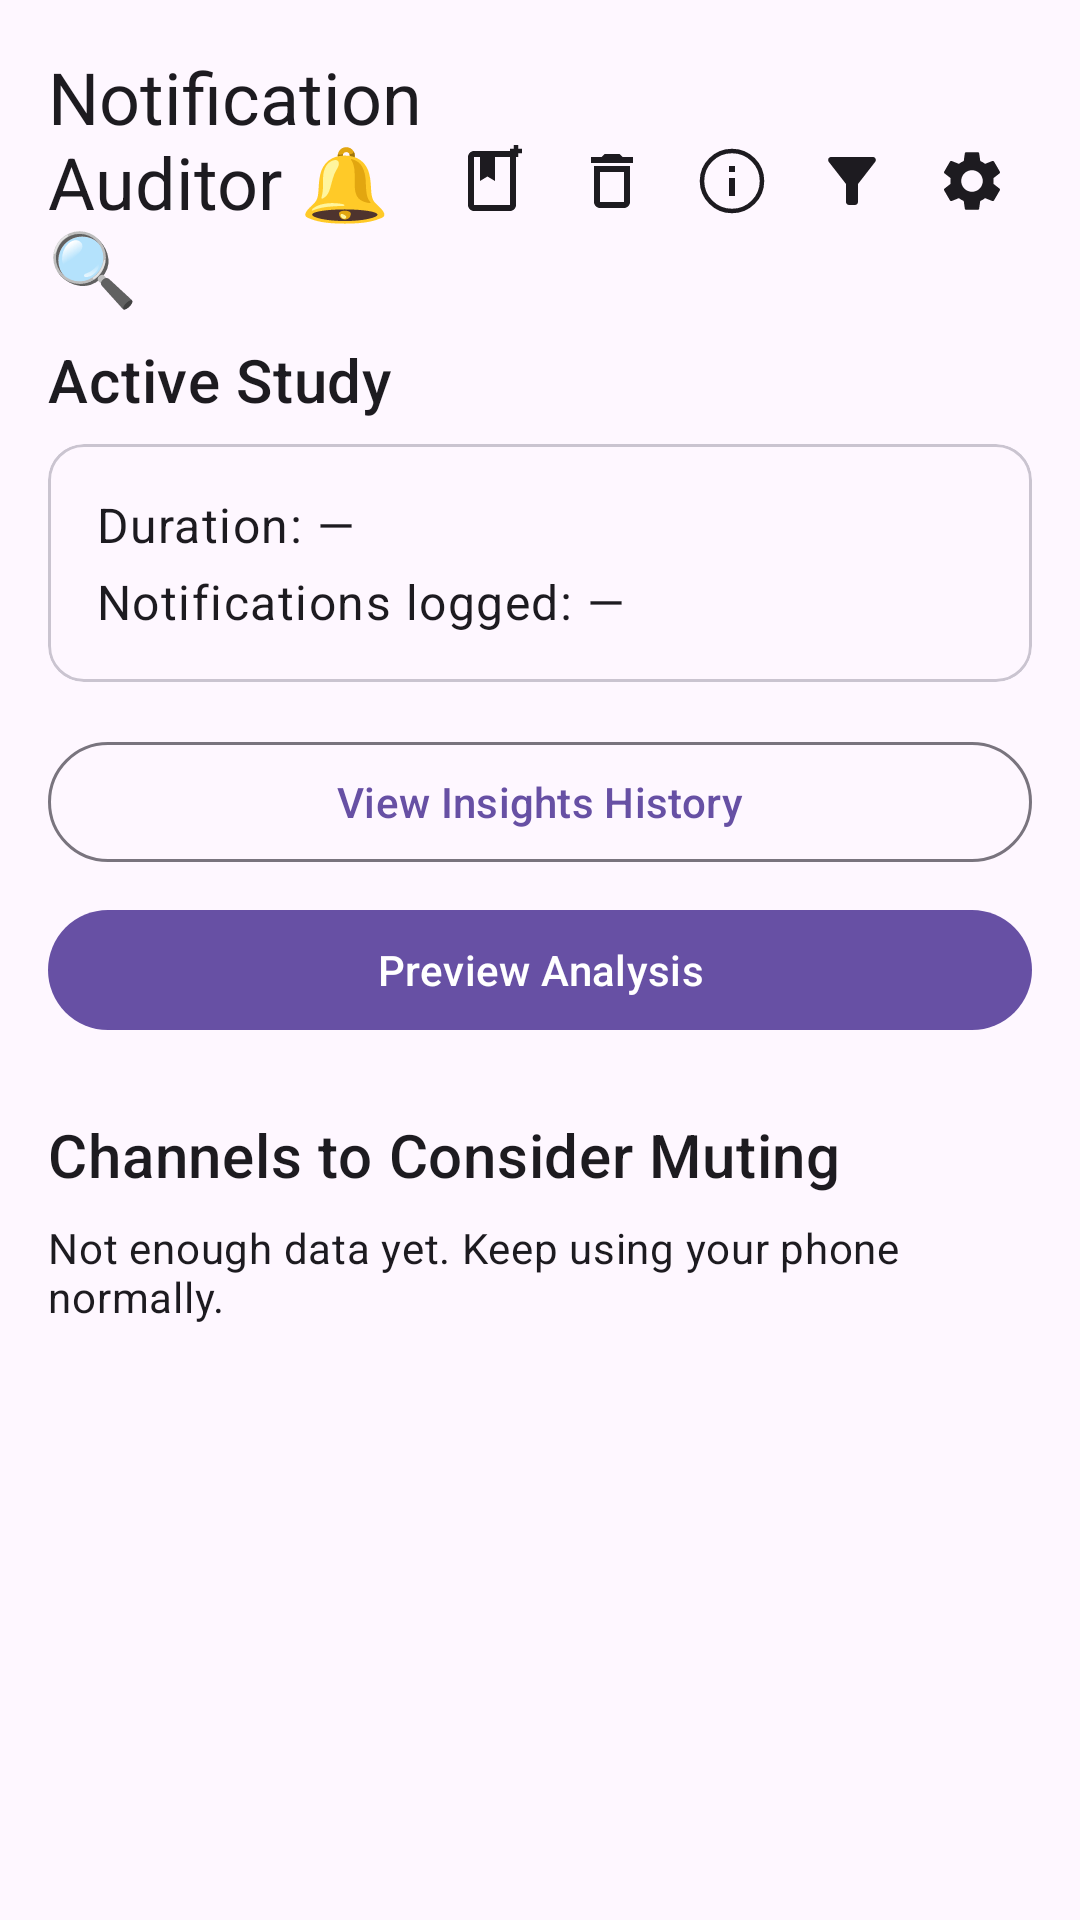

Icon bounding boxes for this 1080 × 1920 phone screenshot, format (x1, y1, x2, y2):
App info: (699, 148, 765, 214)
Clear study data: (591, 154, 633, 208)
Filter rules: (828, 157, 876, 205)
Settings: (944, 152, 1000, 210)
Start new study: (468, 145, 522, 211)
